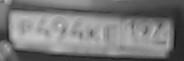license-plateSW: (7, 8, 175, 52)
